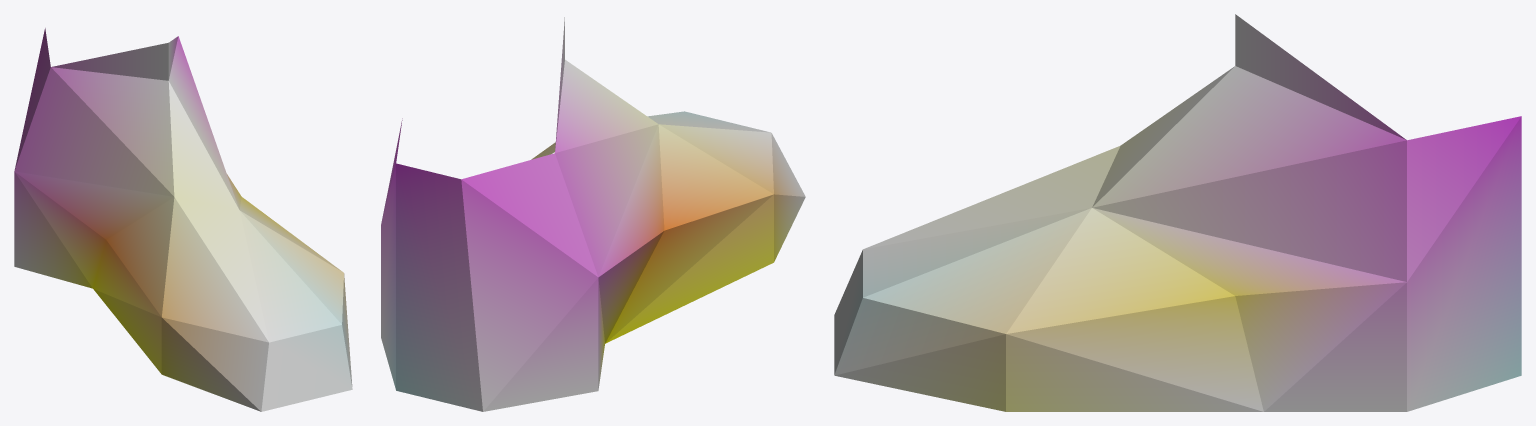
3 renders of one model, left to right at view 1: azimuth 30°, elevation 25°; view 2: azimuth 150°, elevation 25°; view 3: azimuth 270°, elevation 25°, orthographic. The views are drawn at different scales.
Parts seen in each view (by area): view 1: model_118D; view 2: model_118D; view 3: model_118D.
Boxes of the visible parts, box(x1,y1,x2,y2) form: model_118D: box(14, 28, 352, 411); model_118D: box(381, 17, 805, 411); model_118D: box(834, 14, 1521, 411).
Bounding box in the file's own units: 10 × 13 × 24.
